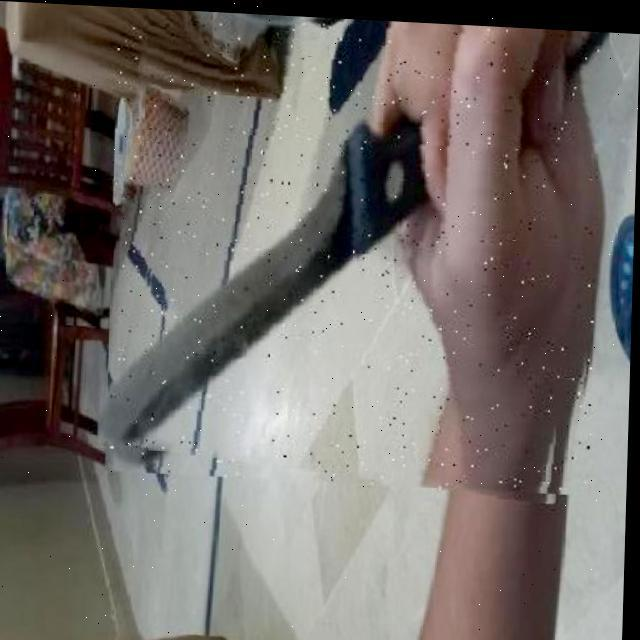knife: (108, 4, 601, 488)
